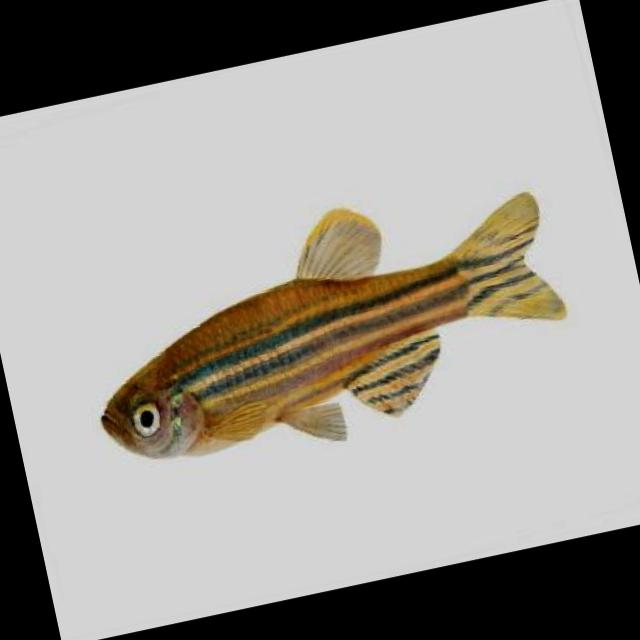ZebraFish: (68, 160, 584, 480)
